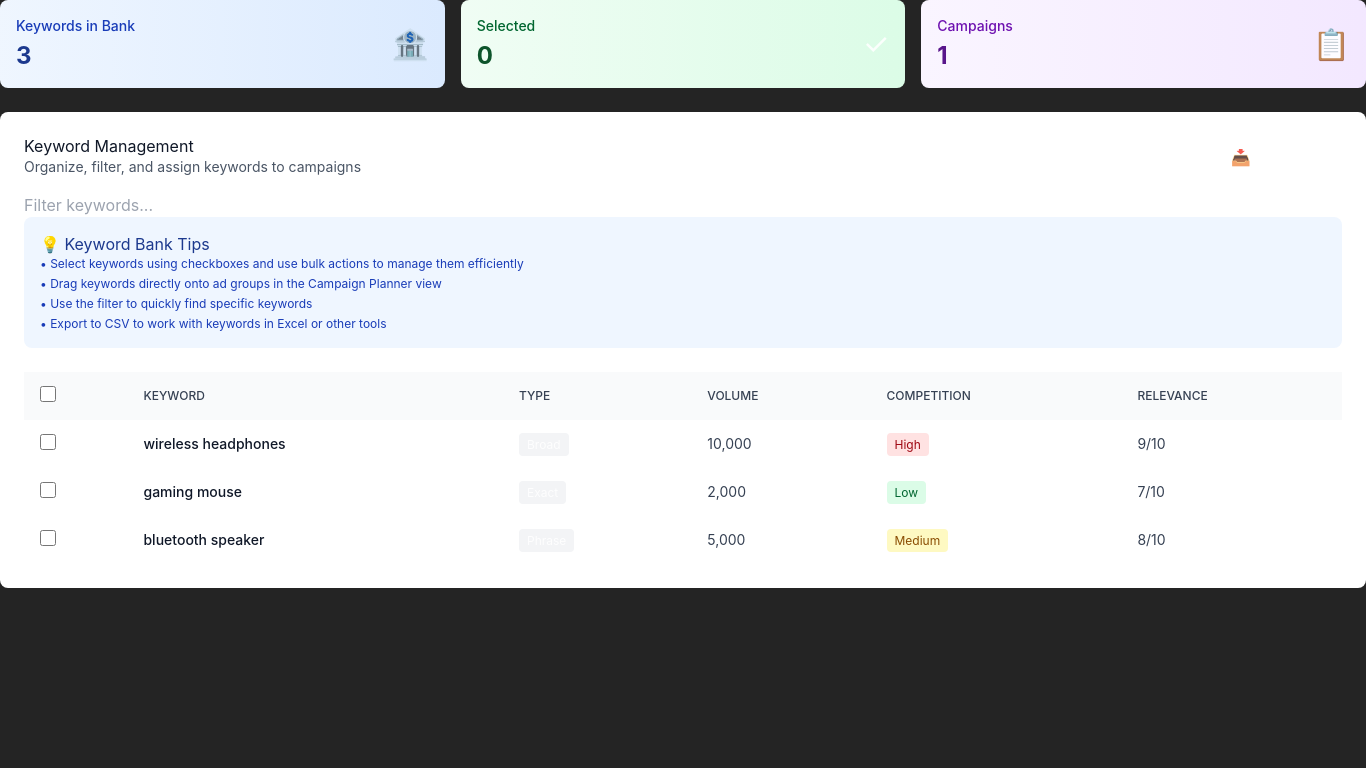
Test: KeywordBank › Rendering & filtering › filters keywords by text
Type "gaming" into the field with placeholder "Filter keywords...".
click(683, 205); type("gaming")  # box [24,193,1342,217]
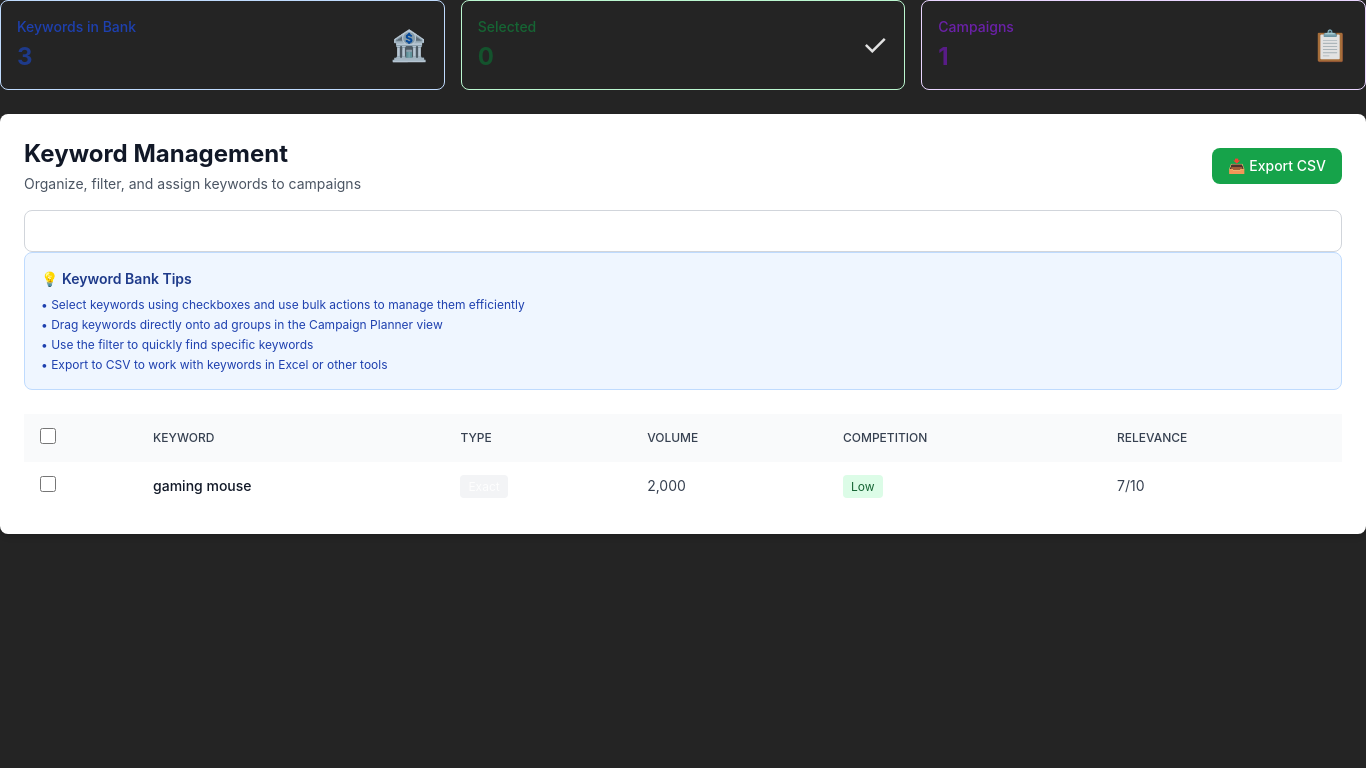
Check: the checkbox in the row of "Type" is shown, box [40,428,56,444]
Check: the text "wireless headphones" is not shown
